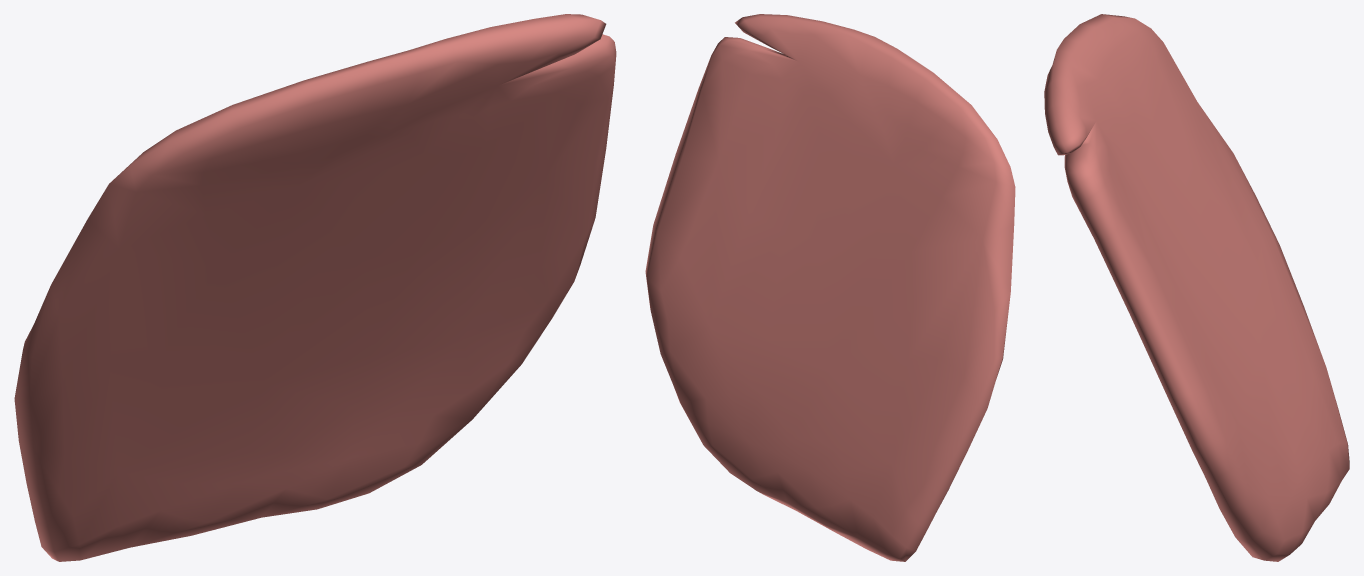
The picture shows the model from 3 angles, left to right: view 1: azimuth 30°, elevation 25°; view 2: azimuth 150°, elevation 25°; view 3: azimuth 270°, elevation 25°; orthographic projection. The views are drawn at different scales.
Visible parts, largest first — view 1: ZA_fafb58f8a81c647a; view 2: ZA_fafb58f8a81c647a; view 3: ZA_fafb58f8a81c647a.
Boxes of the visible parts, x1,y1,x2,y2 form: ZA_fafb58f8a81c647a: (14, 14, 616, 561); ZA_fafb58f8a81c647a: (645, 14, 1015, 561); ZA_fafb58f8a81c647a: (1044, 14, 1349, 561).
Bounding box in the file's own units: 0.00702 × 0.00732 × 0.00396.
